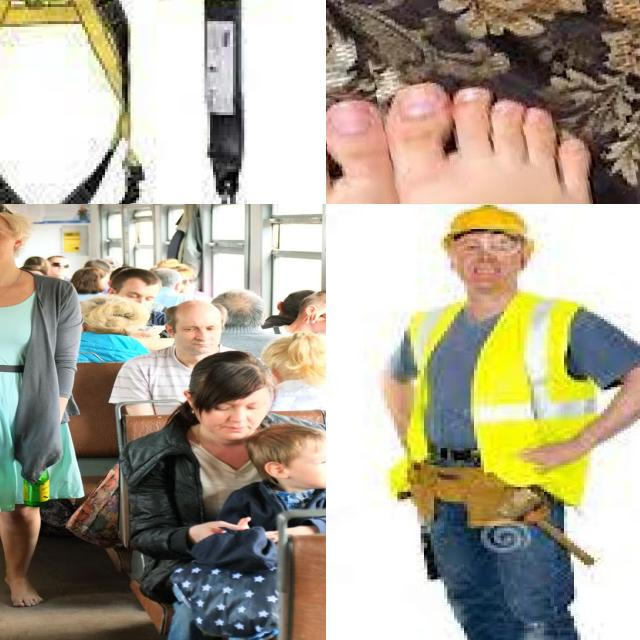Barefoots: (384, 65, 600, 204), (4, 570, 44, 607)
Harness: (0, 0, 142, 204)
vest: (389, 294, 599, 508)
